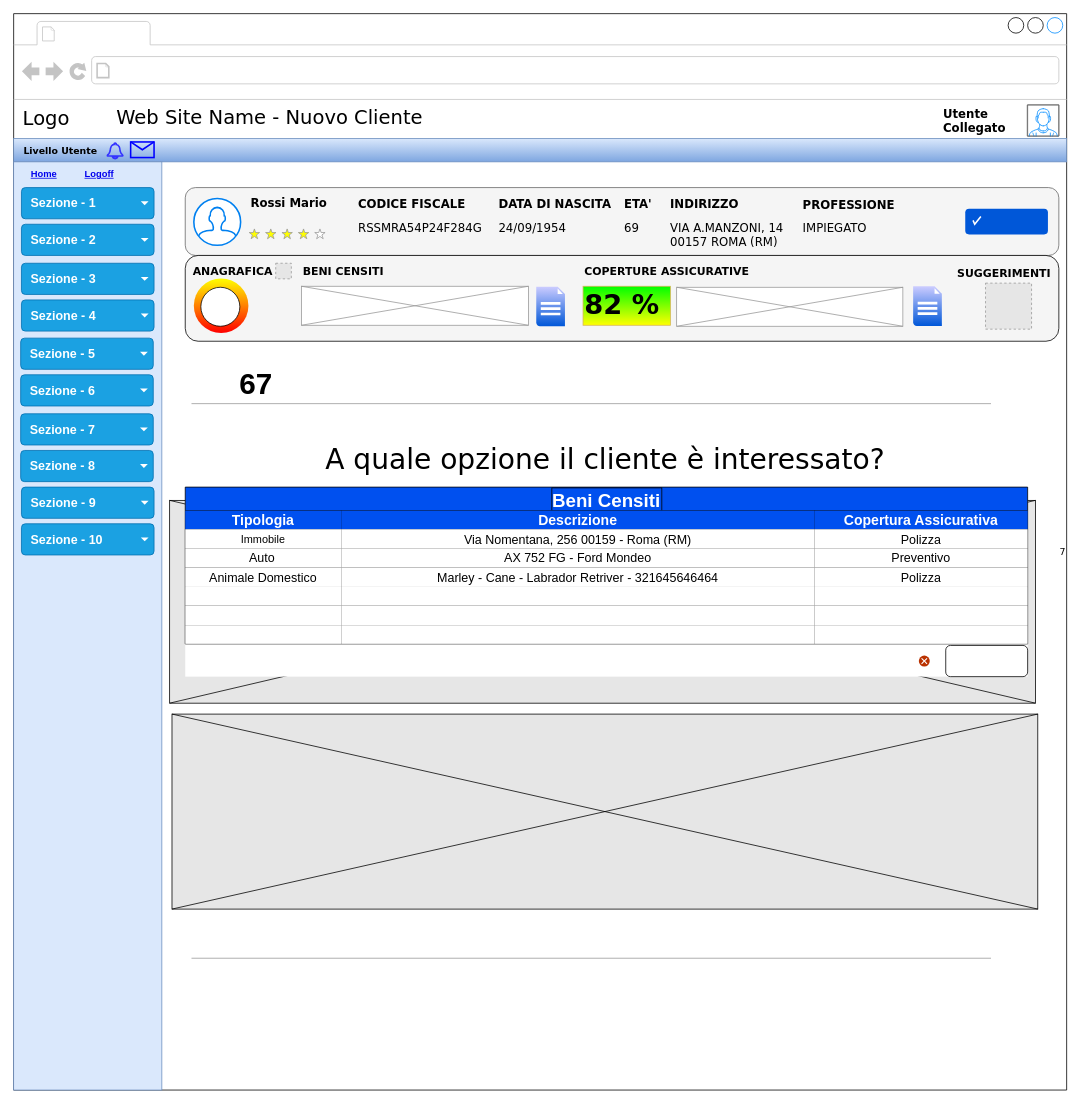
Some shapes in this 1080 by 1104 pixel diagram are drawn without their labels. Grey dashed boxes stand in for pictures. The shapes that lost their labels are listed below. From the top down, each one's centre as x and y in pixels, then its label:
At point 103,32: "Page 1".
At point 212,70: "https://www.default.com".
At point 1006,221: "Consensi".
At point 986,661: "Chiudi".
At point 604,811: "Seleziona i beni che vuoi assicurare in base ai bisogni".
